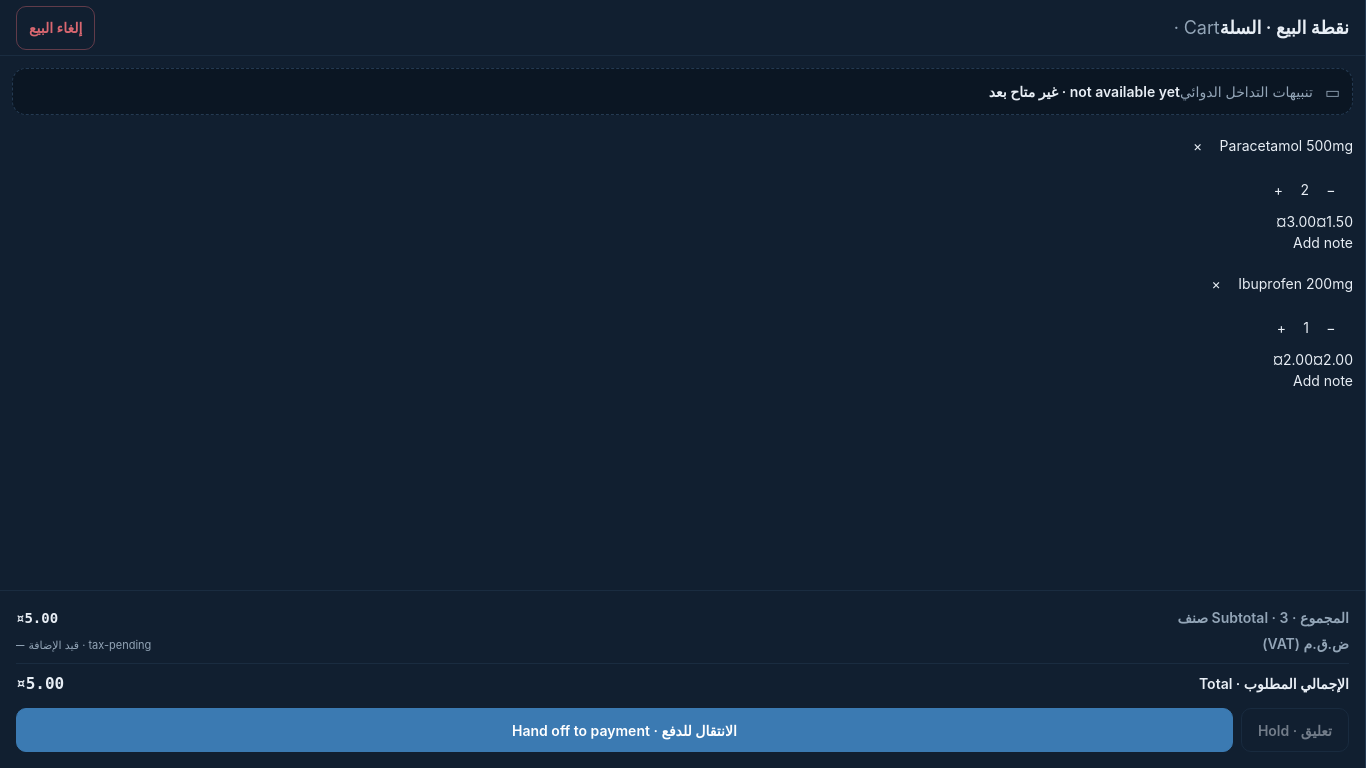
T052 — CartPane bridge: multi-line non-target branches › save note on line-1 leaves line-2 unchanged (covers non-target setNote map arm)
Click the button with test id "line-note-add-btn" below "¤1.50" at (1323, 242), box [1293, 232, 1353, 253]
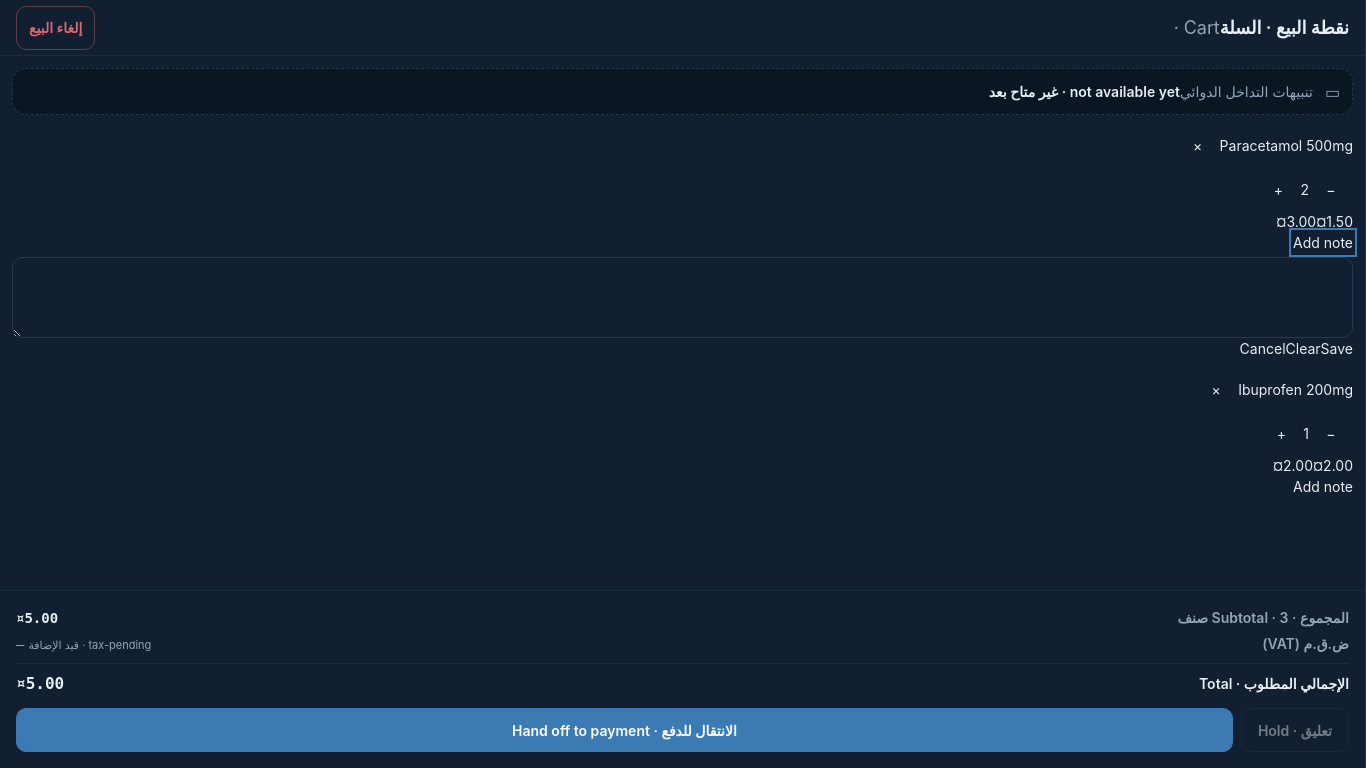
Type "note for line-1" into the text box at (682, 298), box [12, 257, 1353, 338]
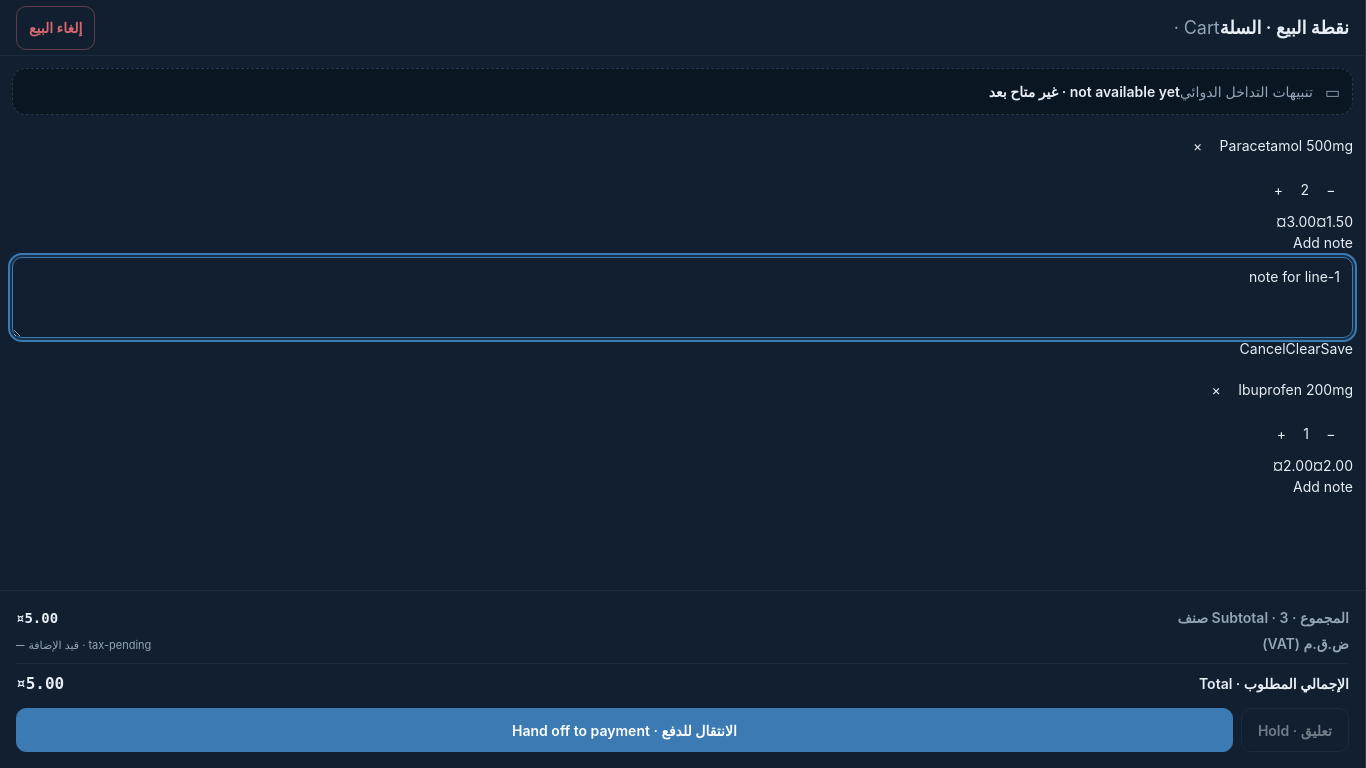
Click the button with test id "note-save-btn" at (1337, 348), box [1321, 338, 1353, 359]
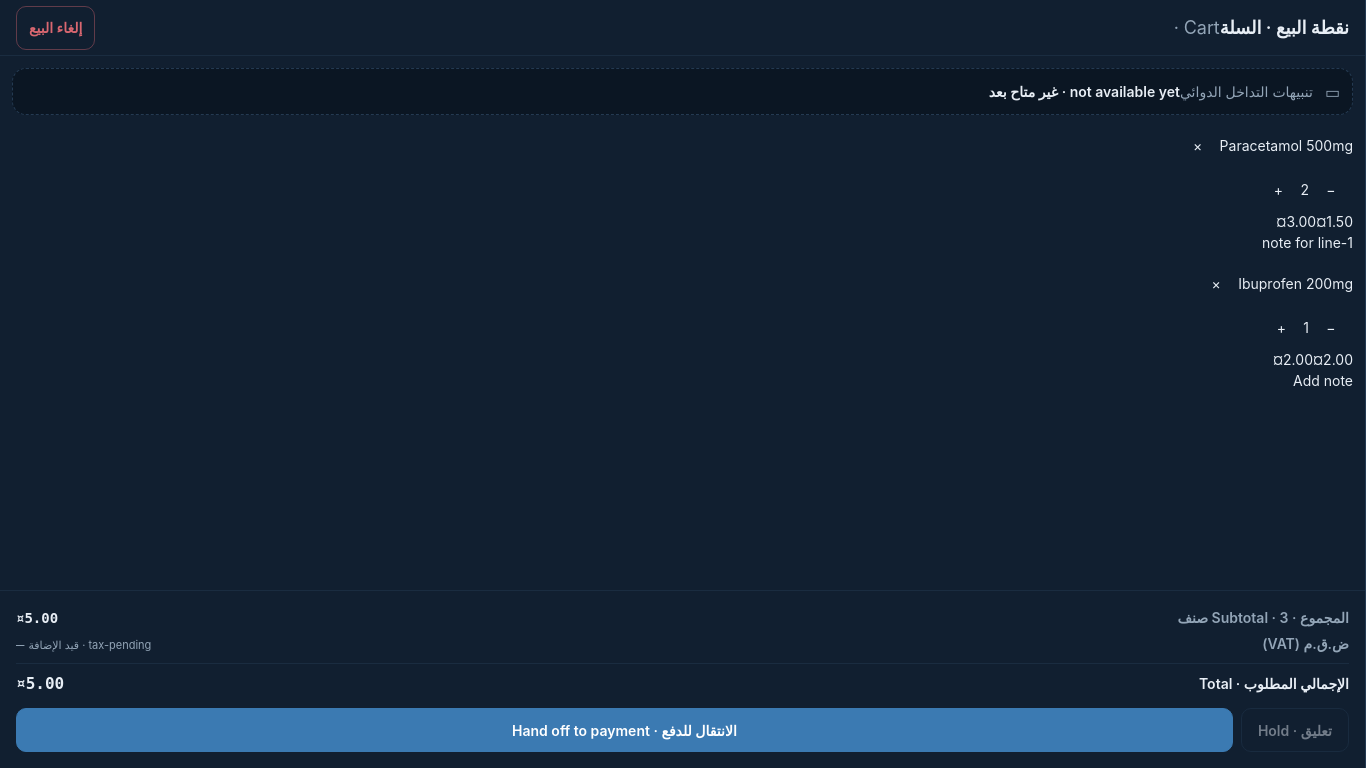
Expected: the button with test id "line-note-chip" reads "note for line-1", [1262, 232, 1353, 253]
Expected: the number of buttons with test id "line-note-add-btn" is 1, [1293, 370, 1353, 391]
